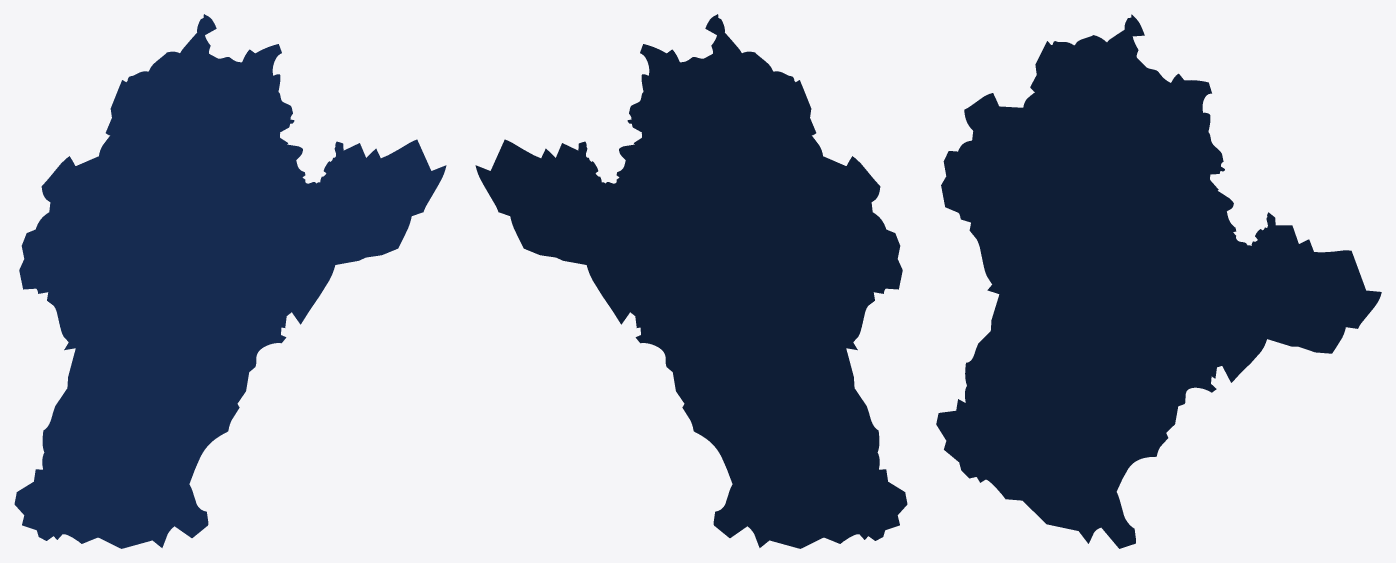
File: 反射面.fbx
3 renders of one model, left to right at view 1: azimuth 30°, elevation 25°; view 2: azimuth 150°, elevation 25°; view 3: azimuth 330°, elevation 25°, orthographic. The views are drawn at different scales.
Parts seen in each view (by area): view 1: 挤压_1; view 2: 挤压_1; view 3: 挤压_1.
Boxes of the visible parts, x1,y1,x2,y2 form: 挤压_1: [14, 14, 446, 548]; 挤压_1: [475, 14, 907, 548]; 挤压_1: [936, 14, 1381, 548].
Bounding box in the file's own units: 1687 × 1955 × 5.04e-11.
